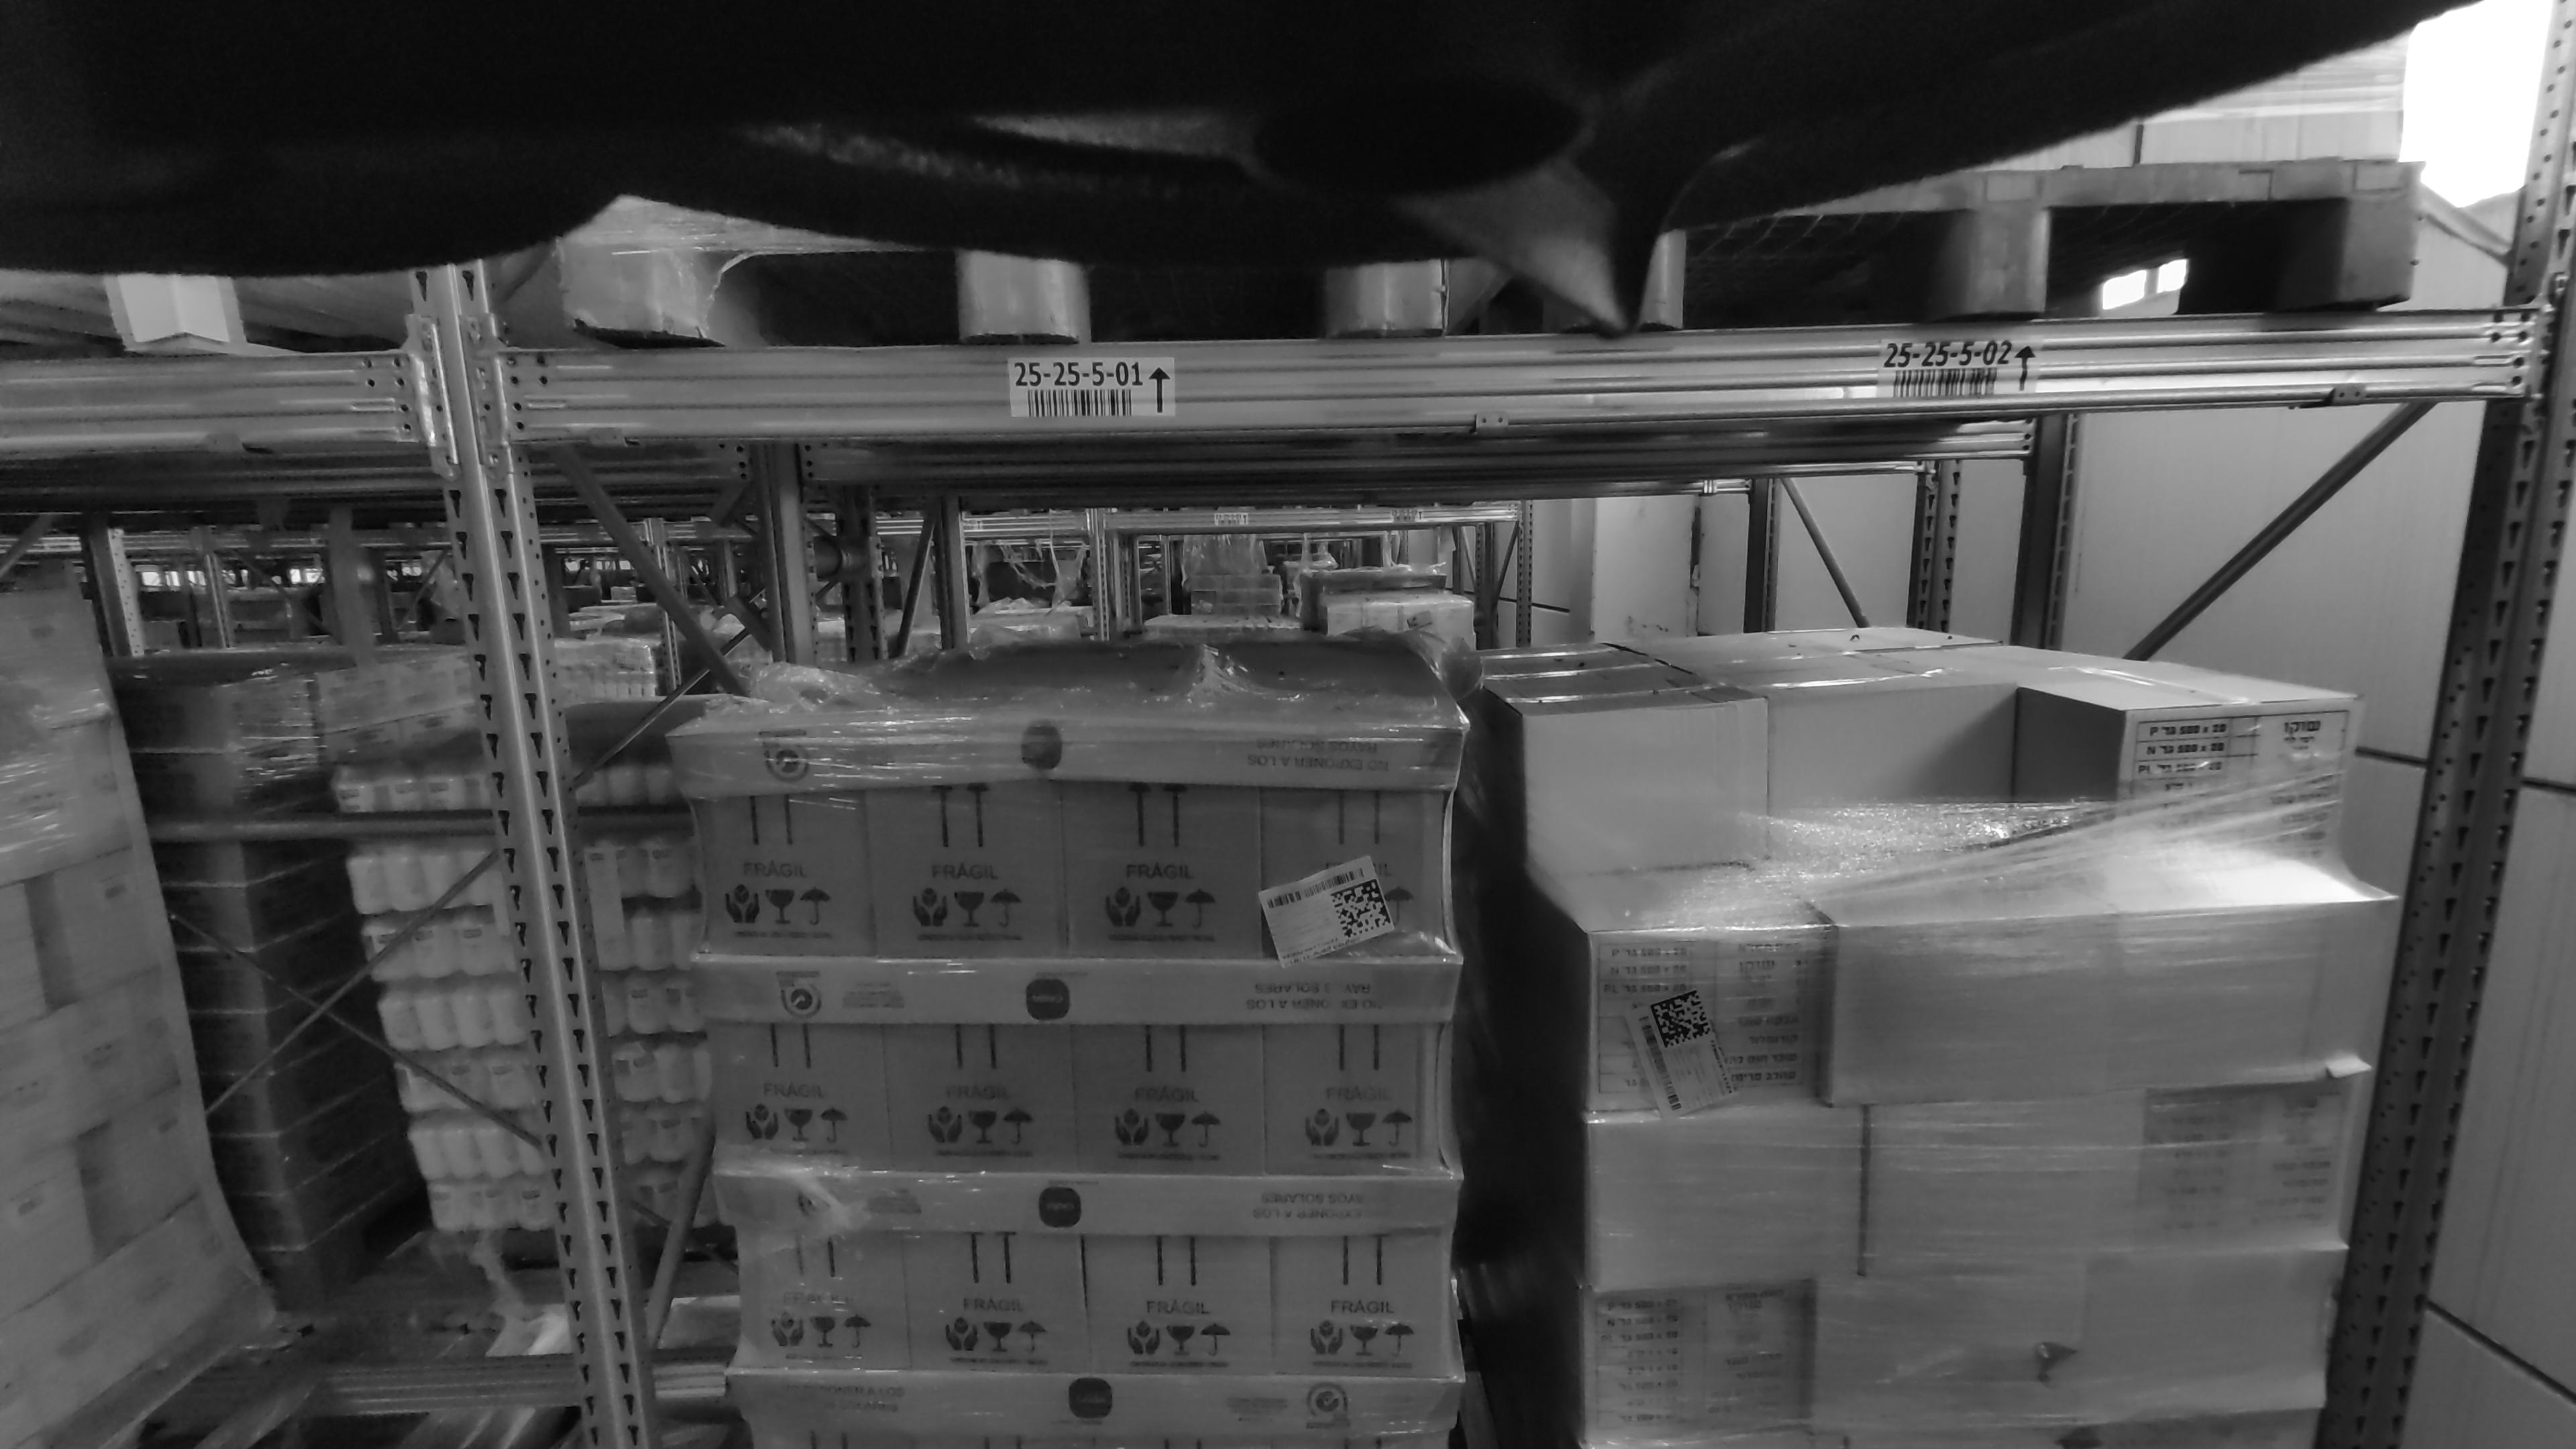empty-shelf: (80, 515, 534, 1449)
